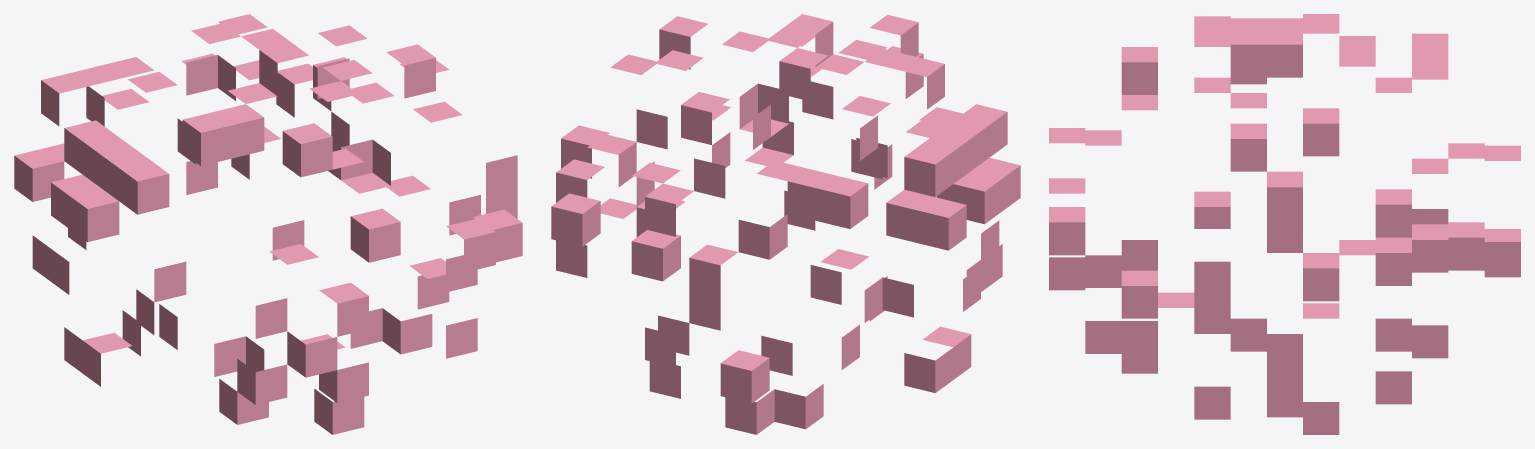
The model's file is tree-cherry-0p9-pink1-ffa8c4.gltf.
The picture shows the model from 3 angles, left to right: view 1: azimuth 30°, elevation 25°; view 2: azimuth 150°, elevation 25°; view 3: azimuth 270°, elevation 25°; orthographic projection.
Parts seen in each view (by area): view 1: tree-cherry-0p9-pink1-ffa8c4; view 2: tree-cherry-0p9-pink1-ffa8c4; view 3: tree-cherry-0p9-pink1-ffa8c4.
Part boxes in pixels (x1=…): tree-cherry-0p9-pink1-ffa8c4: x1=14, y1=14, x2=522, y2=434; tree-cherry-0p9-pink1-ffa8c4: x1=551, y1=14, x2=1020, y2=434; tree-cherry-0p9-pink1-ffa8c4: x1=1049, y1=14, x2=1520, y2=434.
Size of the model in its own units: 13 by 10 by 13.
